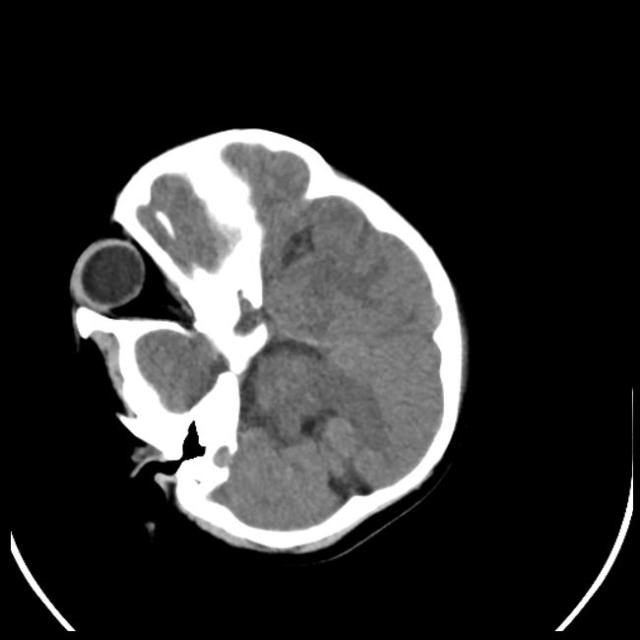lesion: (64, 123, 472, 558)
